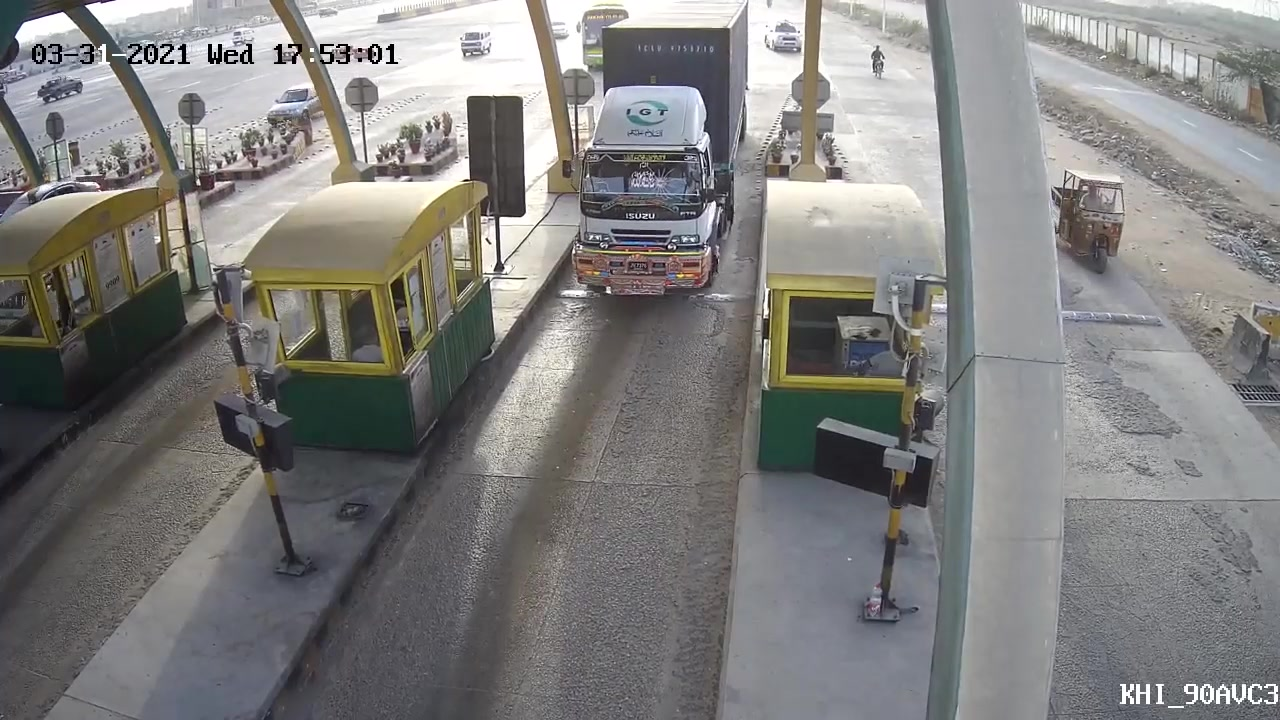F6: (553, 1, 756, 298)
